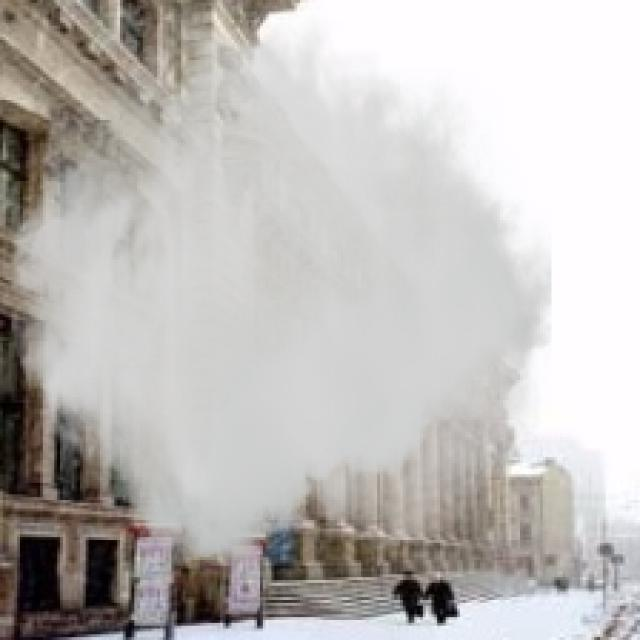smoke: (3, 0, 551, 563)
